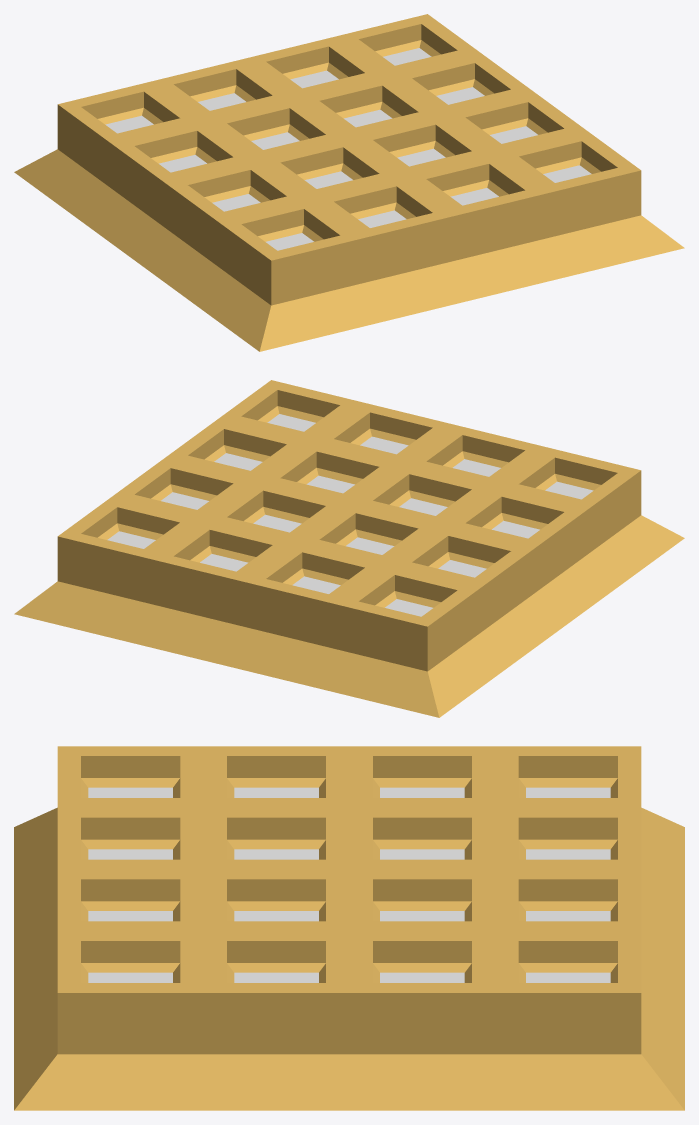
The model's file is light sensor.fbx.
3 renders of one model, top to bottom at view 1: azimuth 30°, elevation 25°; view 2: azimuth 150°, elevation 25°; view 3: azimuth 270°, elevation 25°, orthographic. The views are drawn at different scales.
Visible parts, largest first — view 1: Cube; view 2: Cube; view 3: Cube.
Part boxes in pixels (x1=…): Cube: x1=14, y1=14, x2=684, y2=351; Cube: x1=14, y1=380, x2=684, y2=717; Cube: x1=14, y1=746, x2=684, y2=1110.
Bounding box in the file's own units: 230 × 37.61 × 230.
